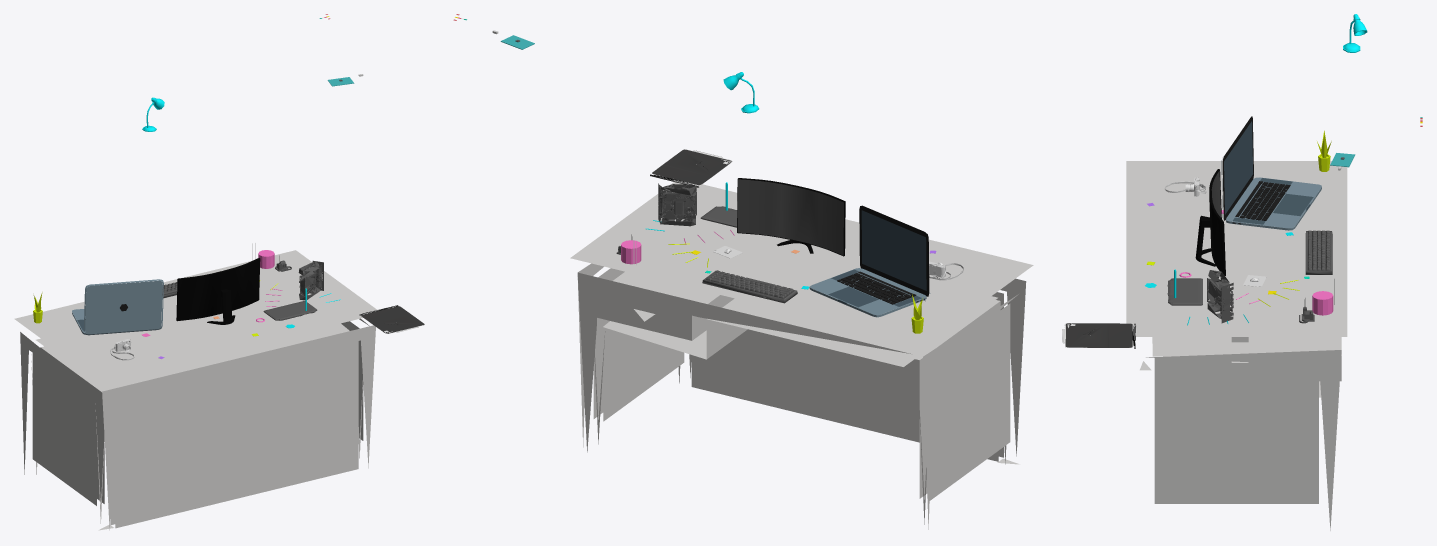
The model's file is desk-scene.glb.
3 views of the same model, side by side, from view 1: azimuth 30°, elevation 25°; view 2: azimuth 150°, elevation 25°; view 3: azimuth 270°, elevation 25° (orthographic). The views are drawn at different scales.
Visible parts, largest first — view 1: desk, laptop, monitor, ipad, zumo_robot, notebook; view 2: desk, laptop, monitor, ipad, zumo_robot, keyboard; view 3: desk, laptop, ipad, monitor, keyboard, zumo_robot, notebook, mug_body, desk_lamp.
Boxes of the visible parts, x1,y1,x2,y2 form: desk: (14, 250, 376, 530); laptop: (72, 279, 163, 335); monitor: (176, 258, 260, 324); ipad: (359, 305, 424, 333); zumo_robot: (298, 260, 323, 300); notebook: (263, 301, 317, 320); desk: (570, 182, 1033, 529); laptop: (809, 205, 930, 317); monitor: (737, 178, 845, 256); ipad: (650, 149, 732, 187); zumo_robot: (658, 183, 696, 226); keyboard: (702, 270, 797, 303); desk: (1126, 161, 1347, 530); laptop: (1221, 116, 1321, 230); ipad: (1062, 323, 1136, 348); monitor: (1195, 169, 1225, 275); keyboard: (1305, 230, 1332, 274); zumo_robot: (1207, 270, 1233, 323); notebook: (1167, 278, 1202, 305); mug_body: (1312, 291, 1333, 315); desk_lamp: (1343, 14, 1367, 52).
Bounding box in the file's own units: 14.74 × 14.41 × 10.38.
